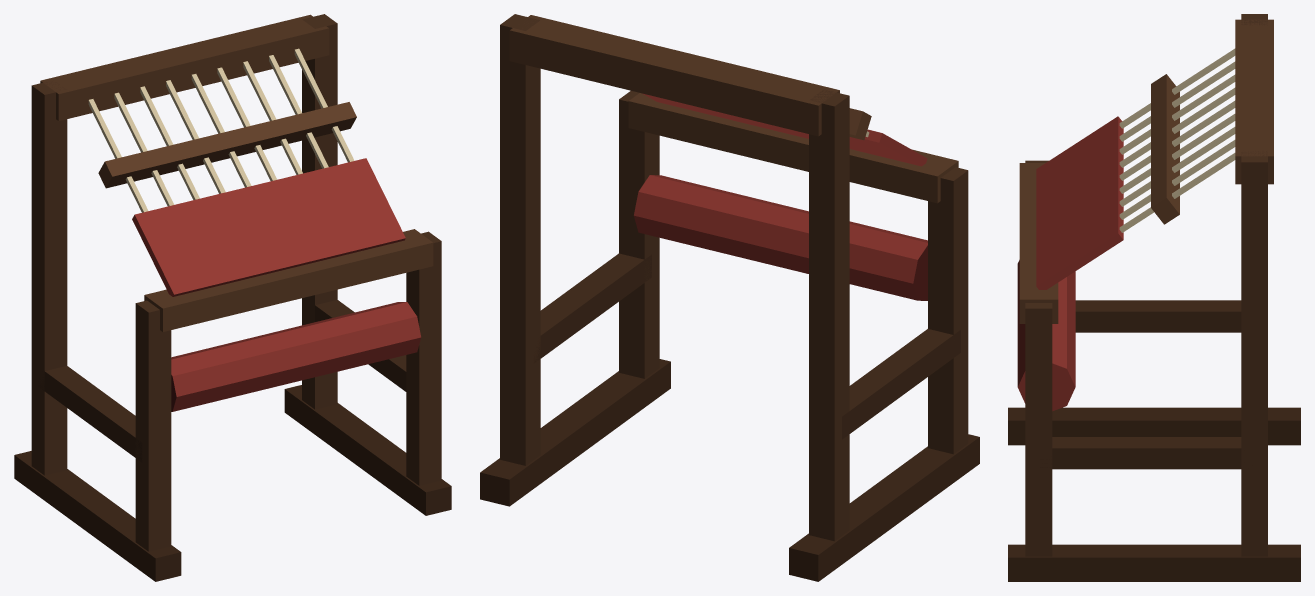
Rendered from loom.glb.
3 views of the same model, side by side, from view 1: azimuth 30°, elevation 25°; view 2: azimuth 150°, elevation 25°; view 3: azimuth 270°, elevation 25° (orthographic). The views are drawn at different scales.
Parts seen in each view (by area): view 1: loom; view 2: loom; view 3: loom.
Boxes of the visible parts, x1,y1,x2,y2 form: loom: (14,14,451,581); loom: (480,14,979,581); loom: (1008,14,1300,581).
Size of the model in its own units: 0.92 by 1.2 by 0.76.
